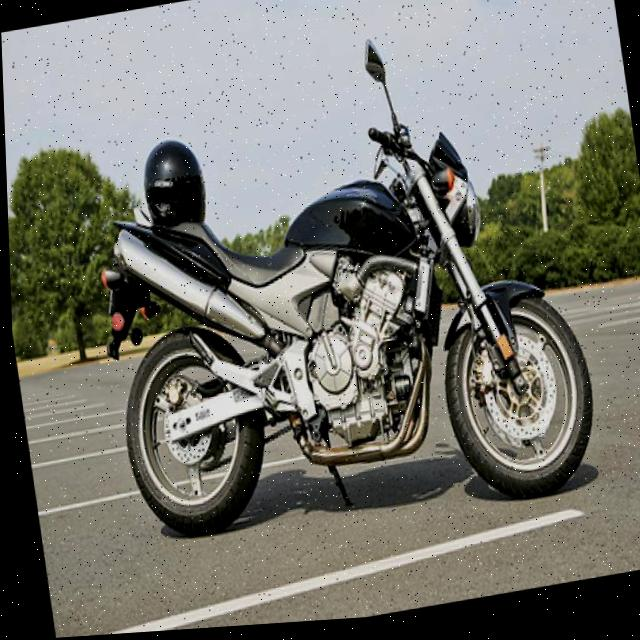motorcycle: (74, 1, 614, 563)
